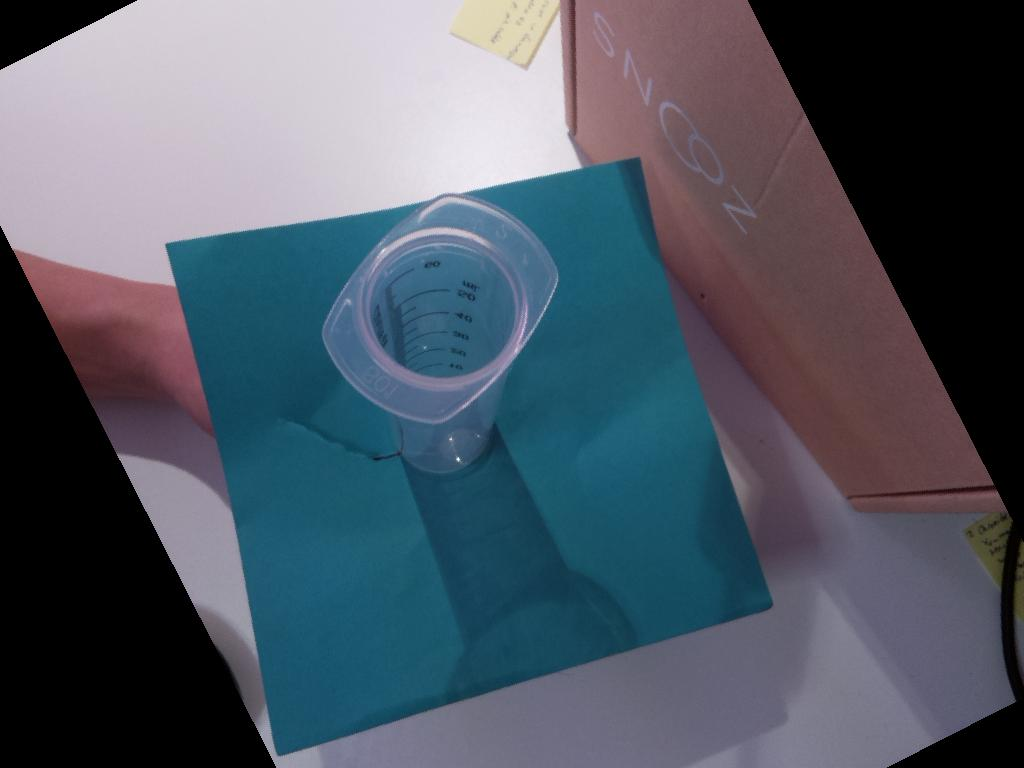clean: (320, 194, 559, 427)
